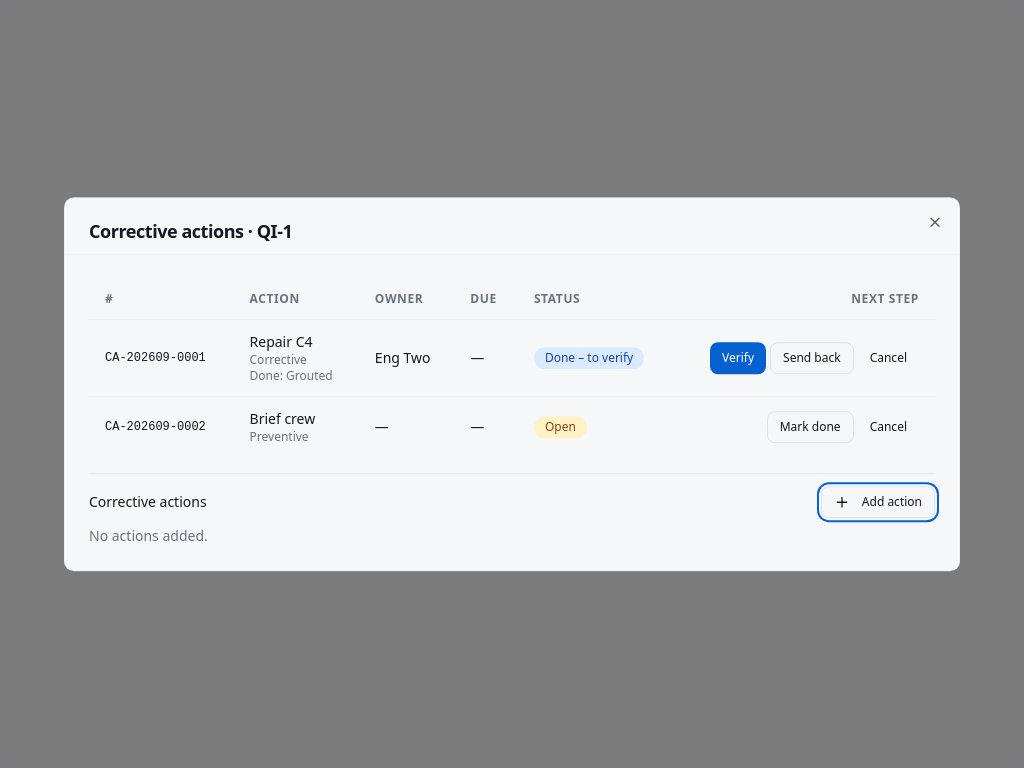
Test: Corrective actions › done actions are verified or sent back with a note
Later steps or results of the test are not shown.
Click the button "Send back".
click(812, 358)  # box [770,342,854,374]
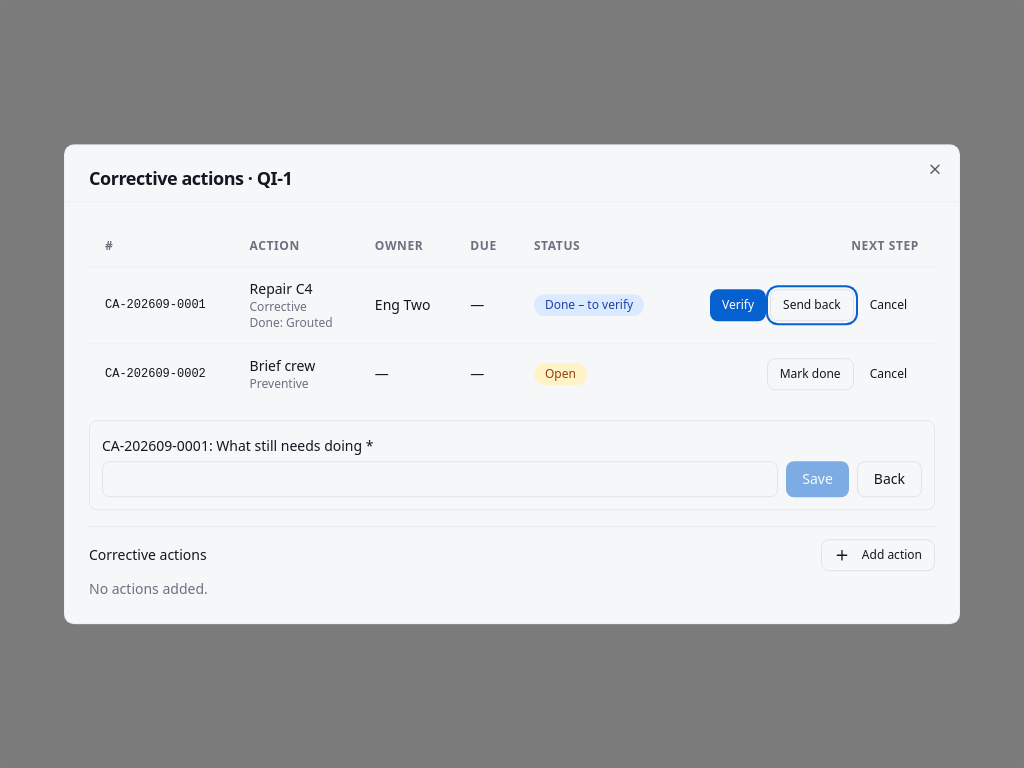
Now the button "Save" is disabled, box [786,461,849,497]
